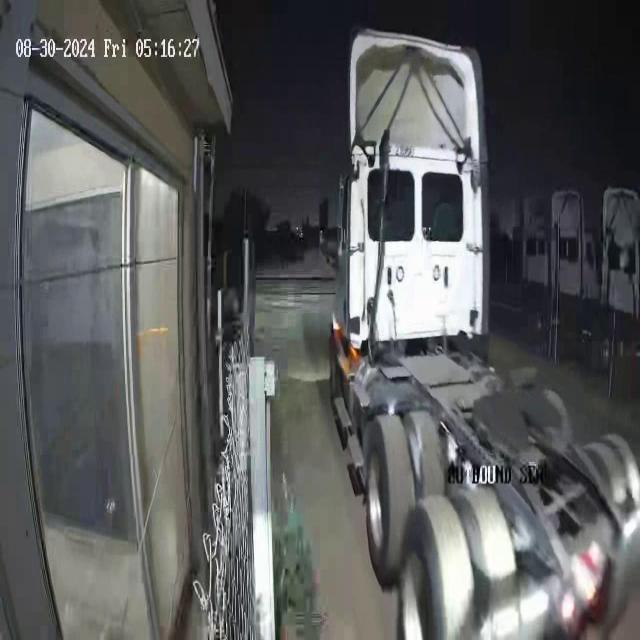BOBTAIL: (327, 25, 639, 637)
